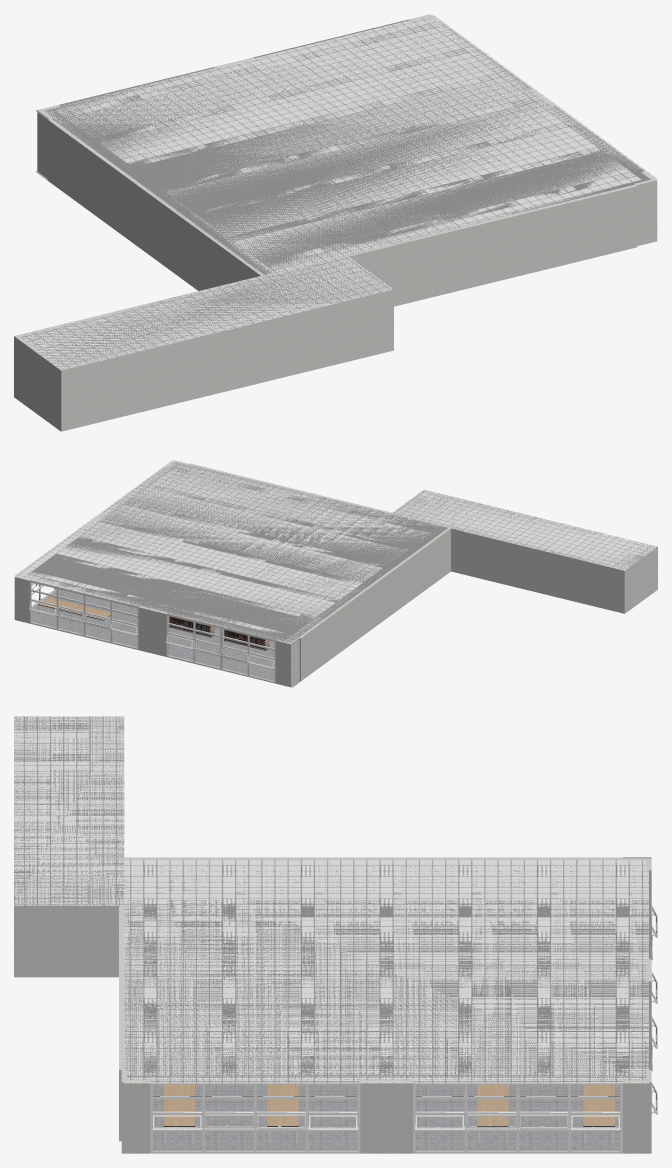
The model's file is reference_room.FBX.
The picture shows the model from 3 angles, top to bottom: view 1: azimuth 30°, elevation 25°; view 2: azimuth 150°, elevation 25°; view 3: azimuth 270°, elevation 25°; orthographic projection. The views are drawn at different scales.
Parts seen in each view (by area): view 1: Ceiling_01, Out_01, Wall00, Ceiling_02, Out_02, Light_01, Wall01, Wall05; view 2: Out_01, Ceiling_01, Wall00, Ceiling_02, Floor, Out_02, Light_01, window_frame_004, window_frame_003, Wall04, Wall05, Wall03 (+3 smaller); view 3: Ceiling_01, Out_01, Ceiling_02, Floor, Out_02, Wall00, Light_01, window_frame_002, window_frame_001, Wall02, Wall01, Wall03 (+4 smaller).
Part boxes in pixels (x1,y1,x2,y2): Ceiling_01: [44, 14, 657, 273]; Out_01: [35, 17, 650, 274]; Wall00: [14, 118, 636, 431]; Ceiling_02: [15, 255, 393, 370]; Out_02: [15, 255, 392, 369]; Light_01: [60, 24, 636, 265]; Wall01: [634, 171, 657, 246]; Wall05: [37, 105, 60, 178]; Out_01: [28, 462, 447, 644]; Ceiling_01: [14, 460, 444, 642]; Wall00: [188, 463, 657, 681]; Ceiling_02: [391, 489, 657, 570]; Floor: [31, 589, 300, 687]; Out_02: [391, 490, 656, 570]; Light_01: [29, 467, 430, 636]; window_frame_004: [166, 614, 275, 683]; window_frame_003: [29, 581, 138, 650]; Wall04: [139, 606, 167, 656]; Wall05: [276, 637, 299, 687]; Wall03: [14, 570, 30, 623]; Ceiling_01: [124, 859, 648, 1083]; Out_01: [124, 857, 651, 1082]; Ceiling_02: [14, 716, 124, 905]; Floor: [153, 1084, 620, 1150]; Out_02: [14, 716, 124, 905]; Wall00: [14, 716, 622, 1141]; Light_01: [144, 865, 629, 1076]; window_frame_002: [413, 1083, 622, 1153]; window_frame_001: [150, 1083, 360, 1153]; Wall02: [360, 1080, 412, 1153]; Wall01: [121, 1070, 150, 1153]; Wall03: [623, 1070, 651, 1153].
Size of the model in its own units: 33239 by 3000 by 24539.
